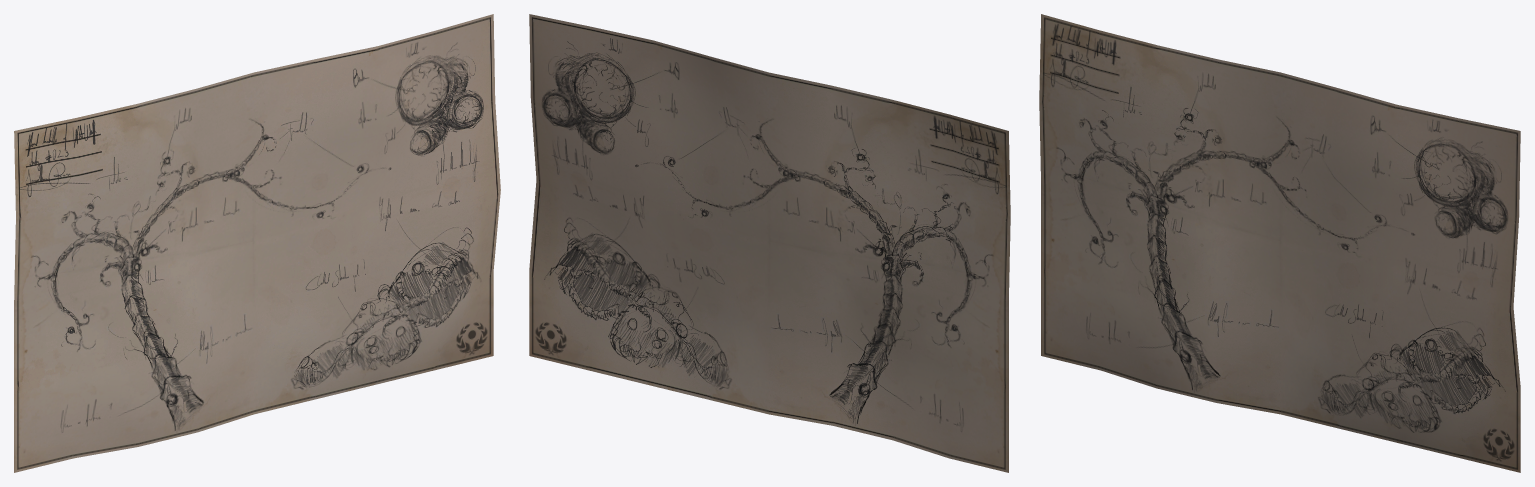
Rendered from poster_ross_drawing02.dae.
The picture shows the model from 3 angles, left to right: view 1: azimuth 30°, elevation 25°; view 2: azimuth 150°, elevation 25°; view 3: azimuth 330°, elevation 25°; orthographic projection.
Visible parts, largest first — view 1: pPlane1; view 2: pPlane1; view 3: pPlane1.
Part boxes in pixels (x1,y1,x2,y2): pPlane1: [14, 14, 500, 472]; pPlane1: [529, 14, 1010, 472]; pPlane1: [1039, 14, 1520, 472].
Bounding box in the file's own units: 0.701 × 0.4776 × 0.0239.
